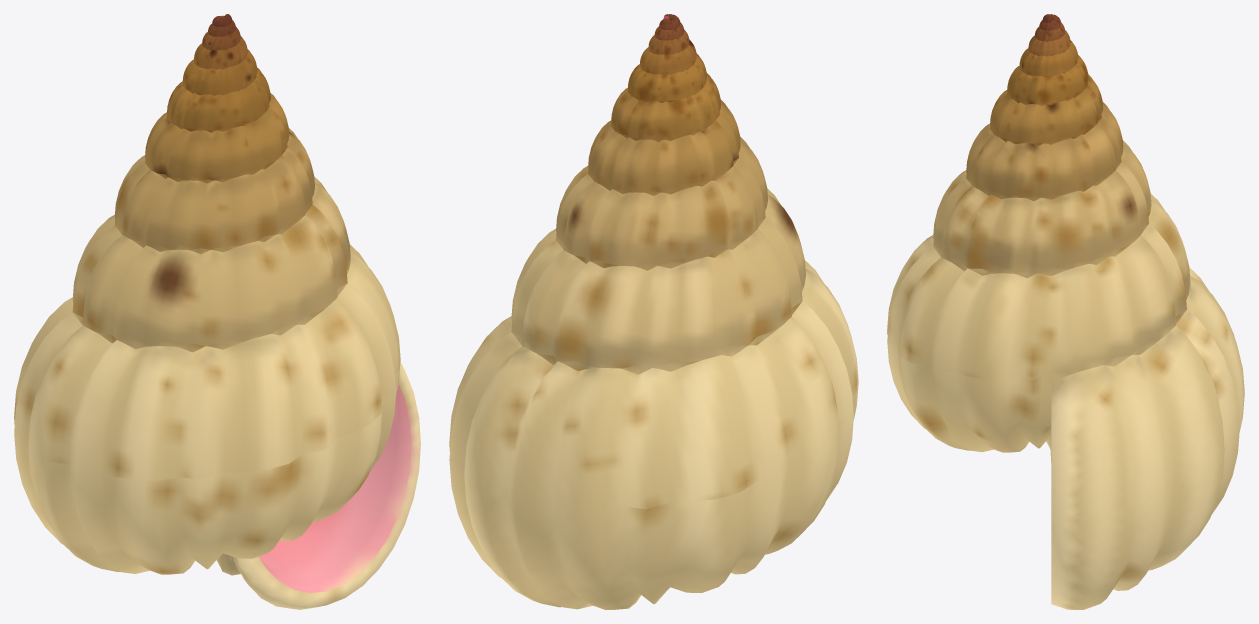
File: Beach_Shell.glb
The picture shows the model from 3 angles, left to right: view 1: azimuth 30°, elevation 25°; view 2: azimuth 150°, elevation 25°; view 3: azimuth 270°, elevation 25°; orthographic projection. The views are drawn at different scales.
Visible parts, largest first — view 1: BC Shell; view 2: BC Shell; view 3: BC Shell.
Part boxes in pixels (box(x1,y1,x2,y2)): BC Shell: box(14, 14, 420, 609); BC Shell: box(449, 14, 858, 609); BC Shell: box(887, 14, 1244, 609).
Bounding box in the file's own units: 4.03 × 6.33 × 3.75.
1 material, 1 textured.
